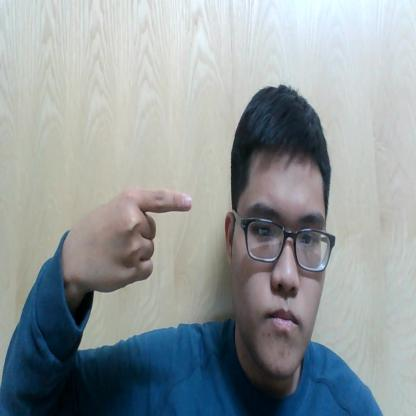left: (78, 178, 195, 300)
